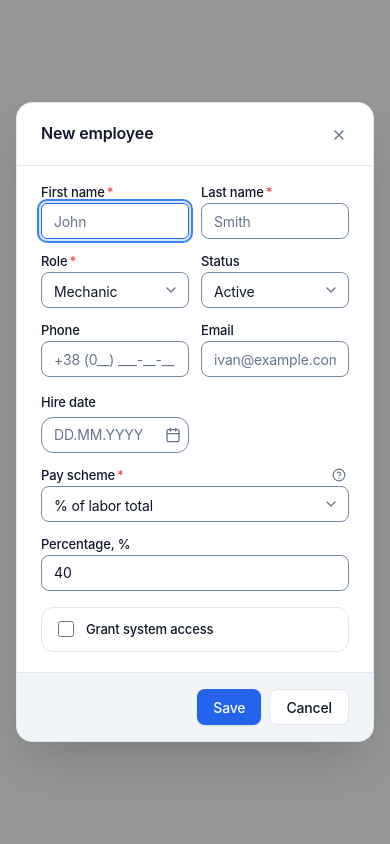
EmployeeEditModal — тексти за мовою інтерфейсу › en — нова картка з відкритим доступом: жодного українського тексту
This screenshot has width=390, height=844.
Click the checkbox labelled "Grant system access" at (66, 629), box [58,621,74,637]
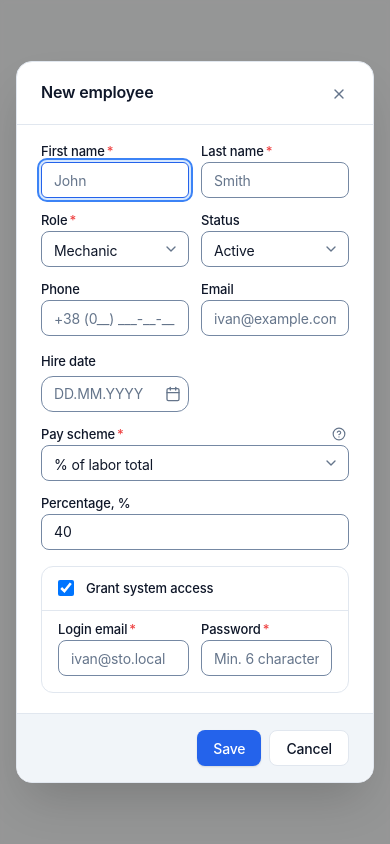
expect the button "Save" is shown: met, box [197,730,261,766]
expect the field labelled "Login email*" is shown: met, box [58,640,189,676]
